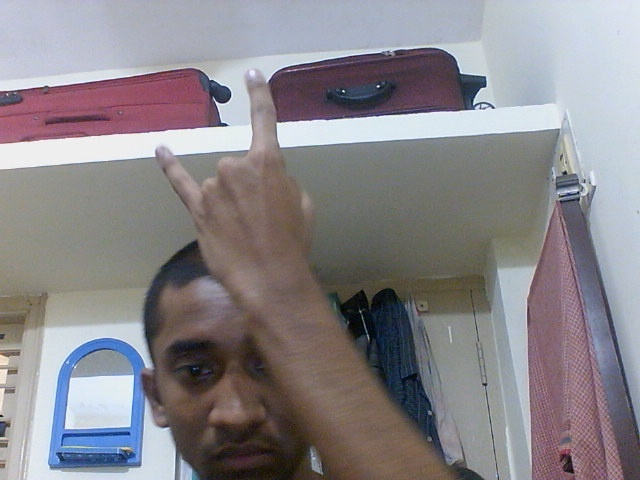hand: (151, 65, 324, 302)
